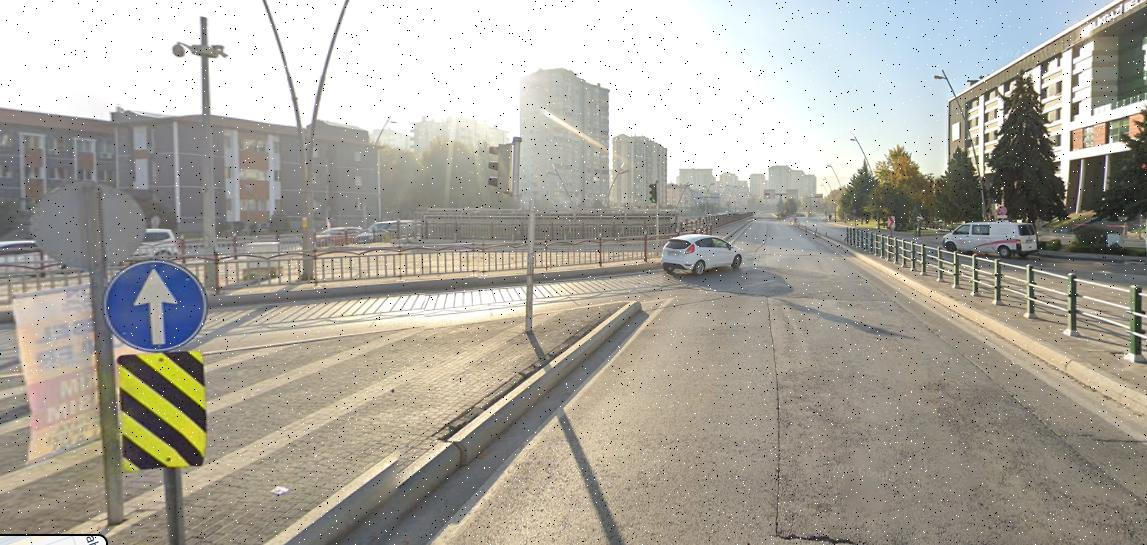forward: (106, 260, 201, 347)
